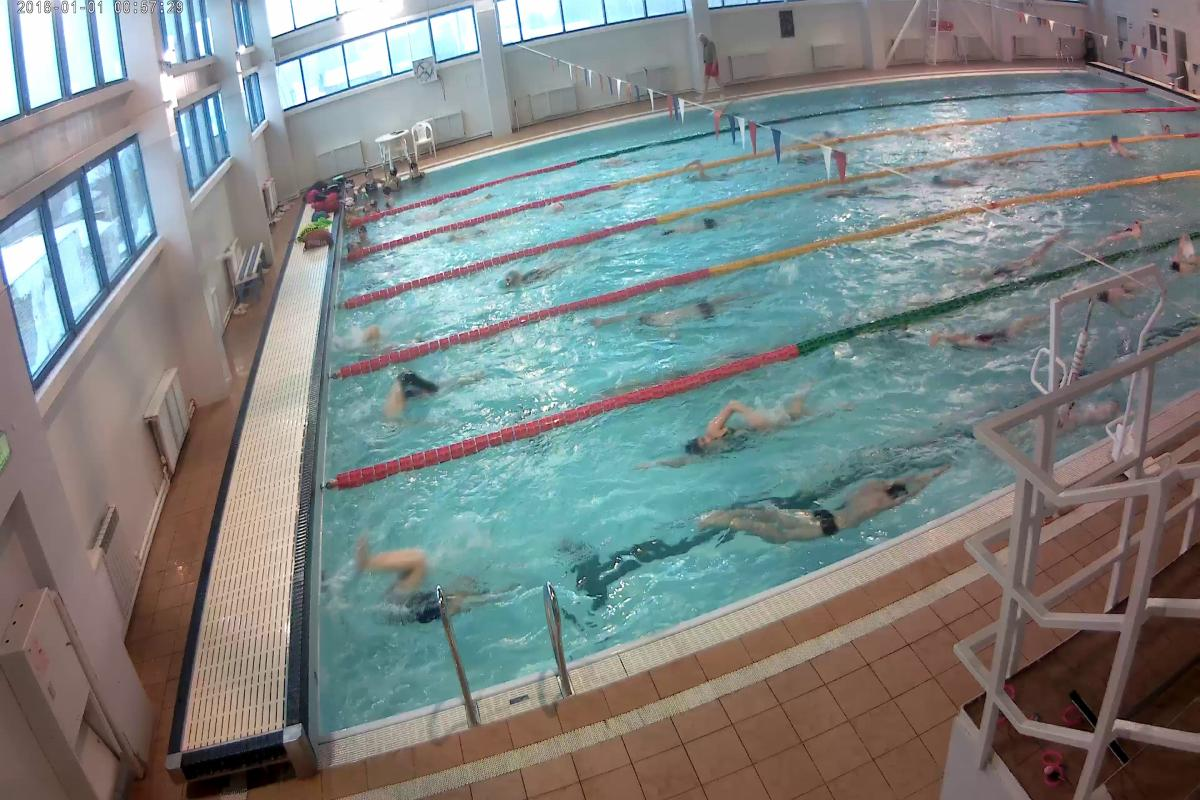swimmer: (714, 464, 934, 536), (660, 386, 816, 468), (364, 537, 494, 620), (910, 311, 1034, 362), (620, 292, 728, 344), (369, 367, 450, 422), (1089, 207, 1160, 248), (1091, 132, 1143, 162)
